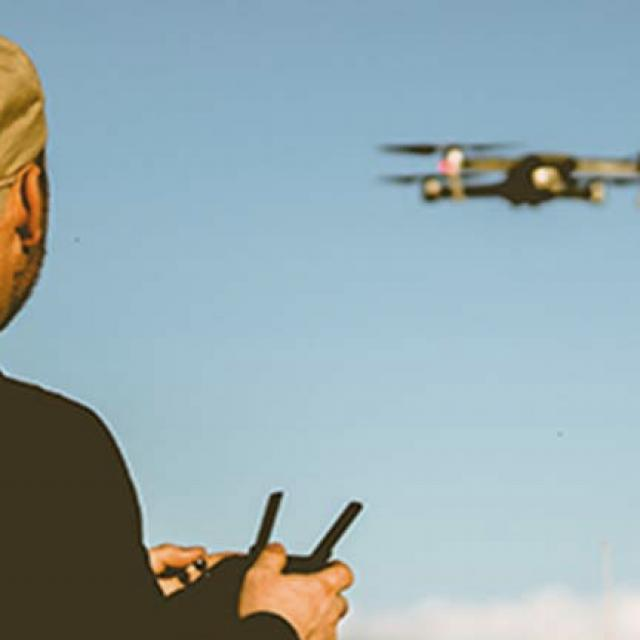drone: (340, 119, 640, 221)
